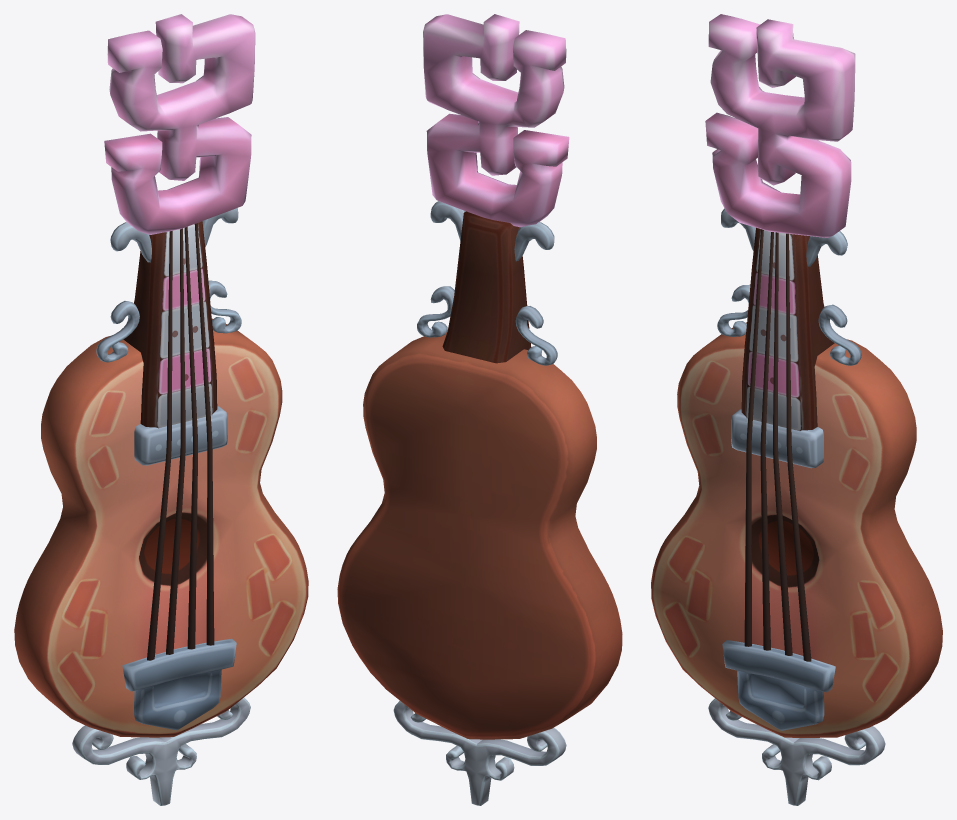
Rendered from SM_Costume_Wizard_Guitar.dae.
The picture shows the model from 3 angles, left to right: view 1: azimuth 30°, elevation 25°; view 2: azimuth 150°, elevation 25°; view 3: azimuth 330°, elevation 25°; orthographic projection. The views are drawn at different scales.
Parts seen in each view (by area): view 1: SM_Costume_Wizard_Guitar; view 2: SM_Costume_Wizard_Guitar; view 3: SM_Costume_Wizard_Guitar.
Boxes of the visible parts, bbox=[...] form: SM_Costume_Wizard_Guitar: bbox=[14, 14, 308, 805]; SM_Costume_Wizard_Guitar: bbox=[337, 14, 622, 805]; SM_Costume_Wizard_Guitar: bbox=[651, 14, 942, 805].
Bounding box in the file's own units: 68.93 × 19.85 × 195.
1 material, 1 textured.
